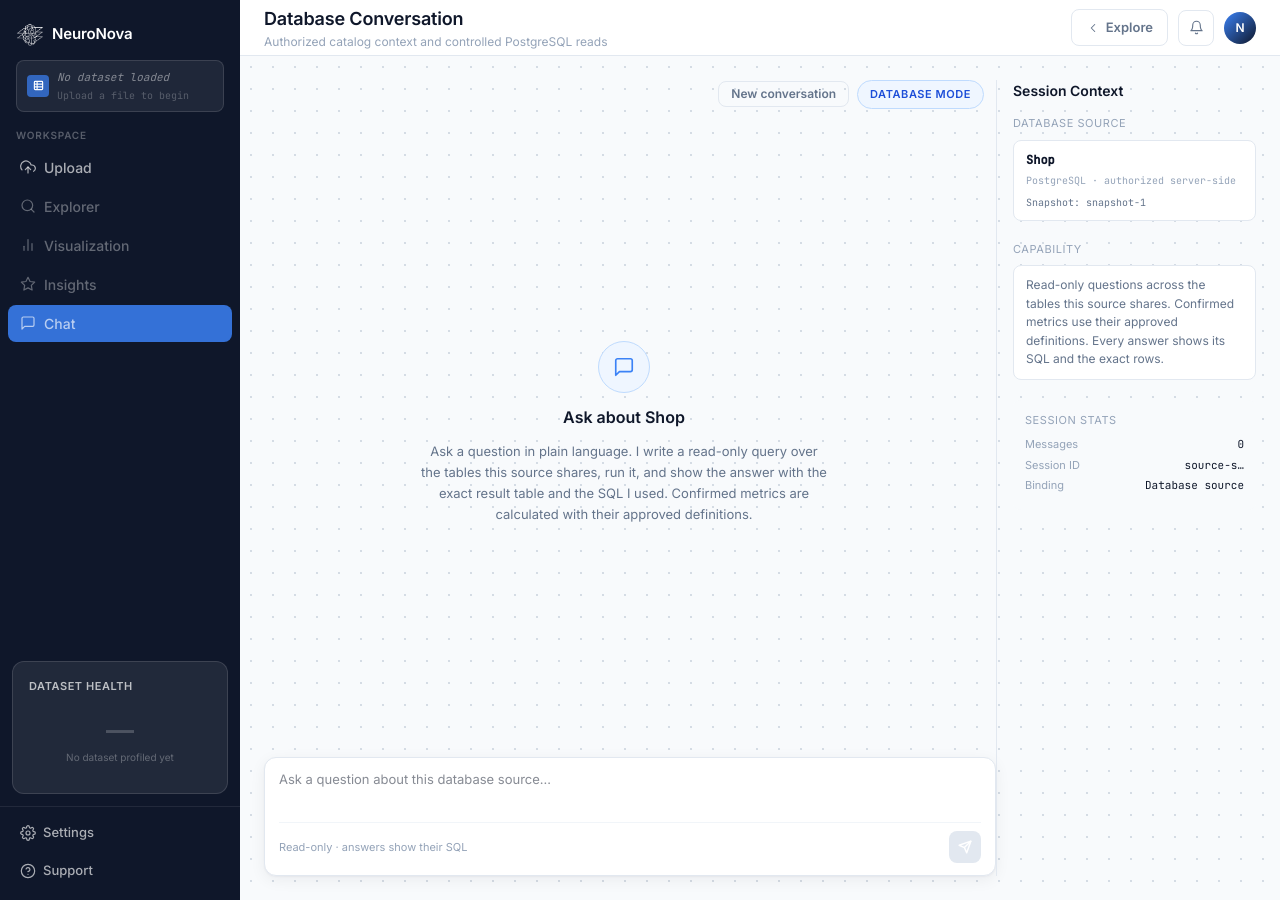
Test: E11: after a drop, reconcile replaces the local view with the stored answer
This screenshot has width=1280, height=900.
Type "How many orders are there?" into the text box named "Database question".
click(630, 790); type("How many orders are there?")  # box [279,770,981,809]
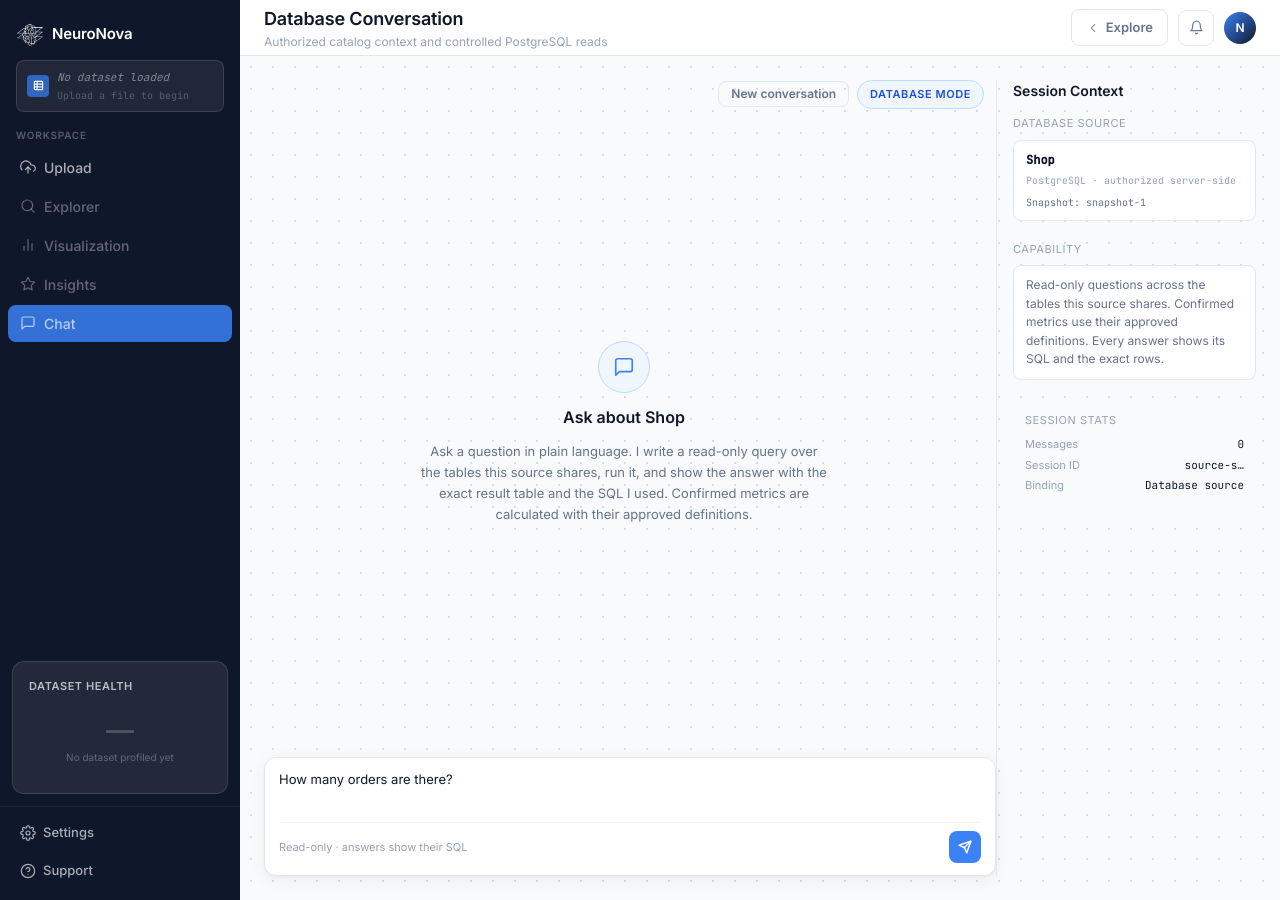
Click the button named "Send database question".
click(965, 847)  # box [949,831,981,863]
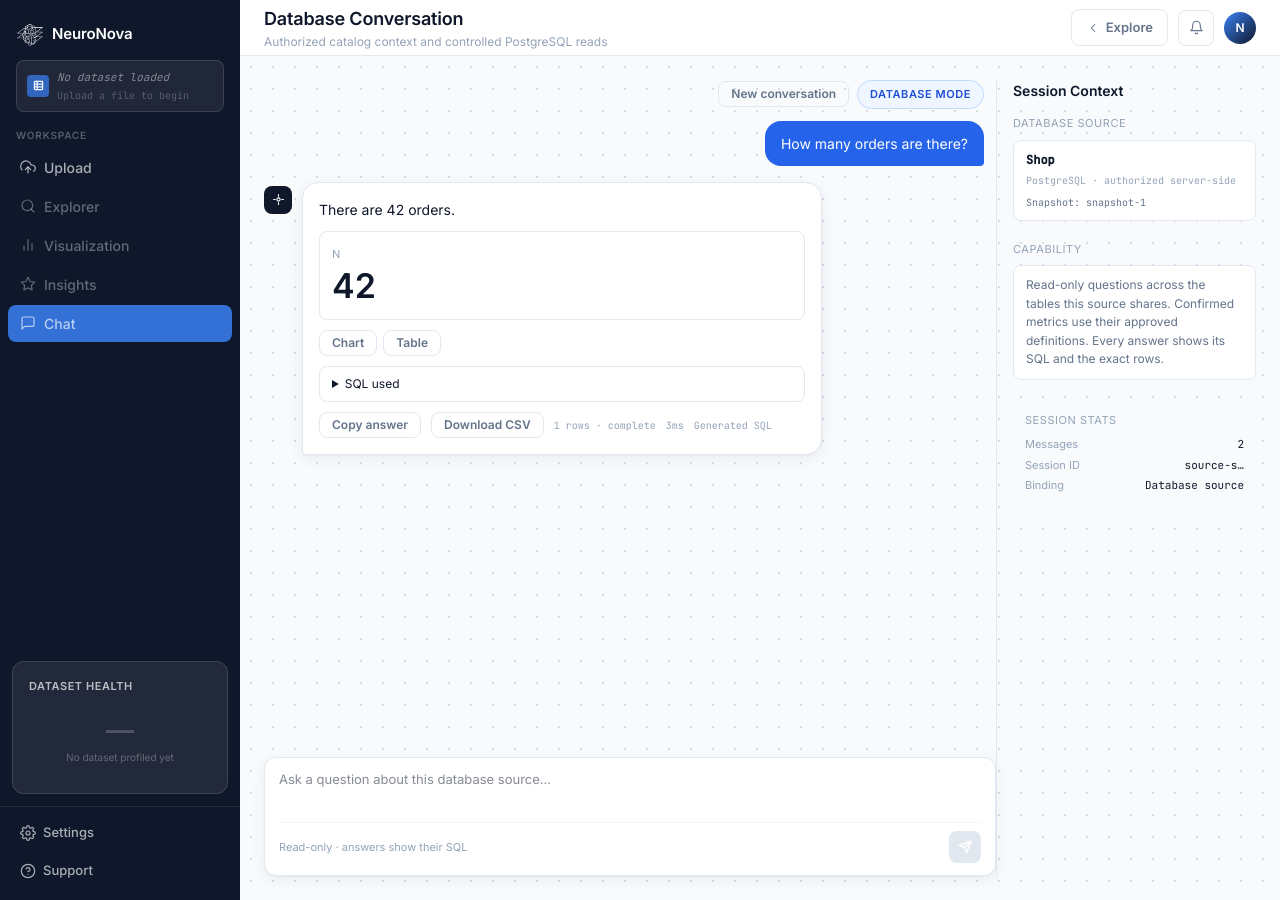
Result: the text with test id "answer-text" reads "There are 42 orders." at [319,200,455,218]
